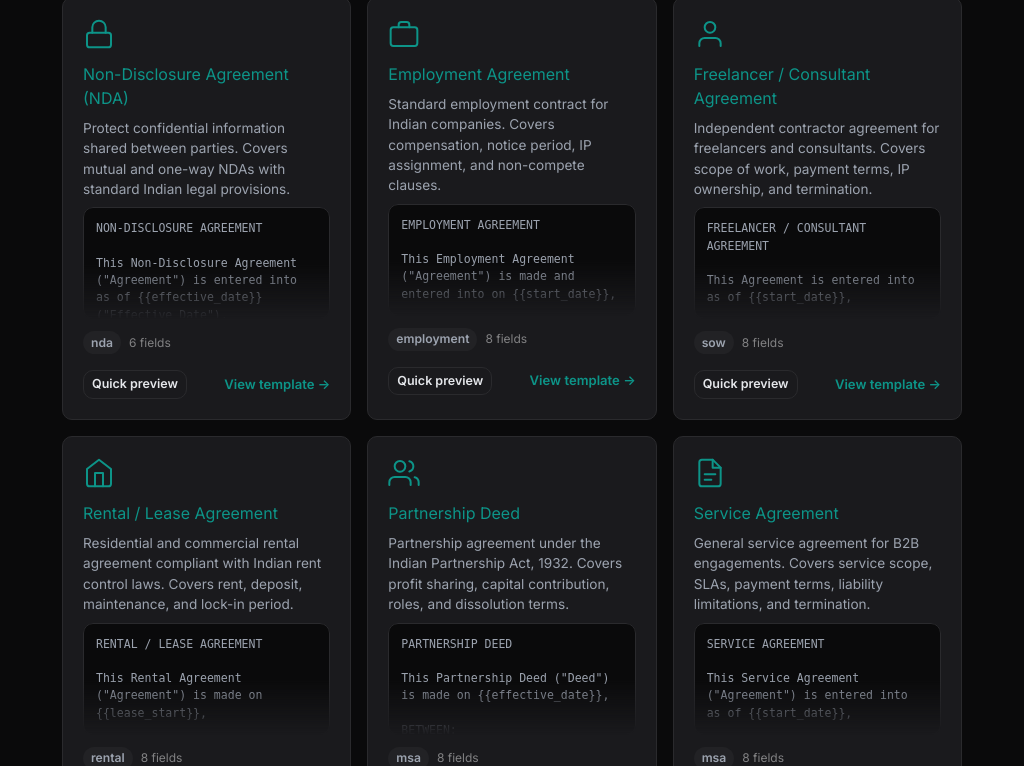
Scenario: FreeTemplatesPage › expands preview on quick preview click
(page scrolled)
Click the button "Quick preview" below "Non-Disclosure Agreement (NDA)": (135, 385) [83,370,187,399]
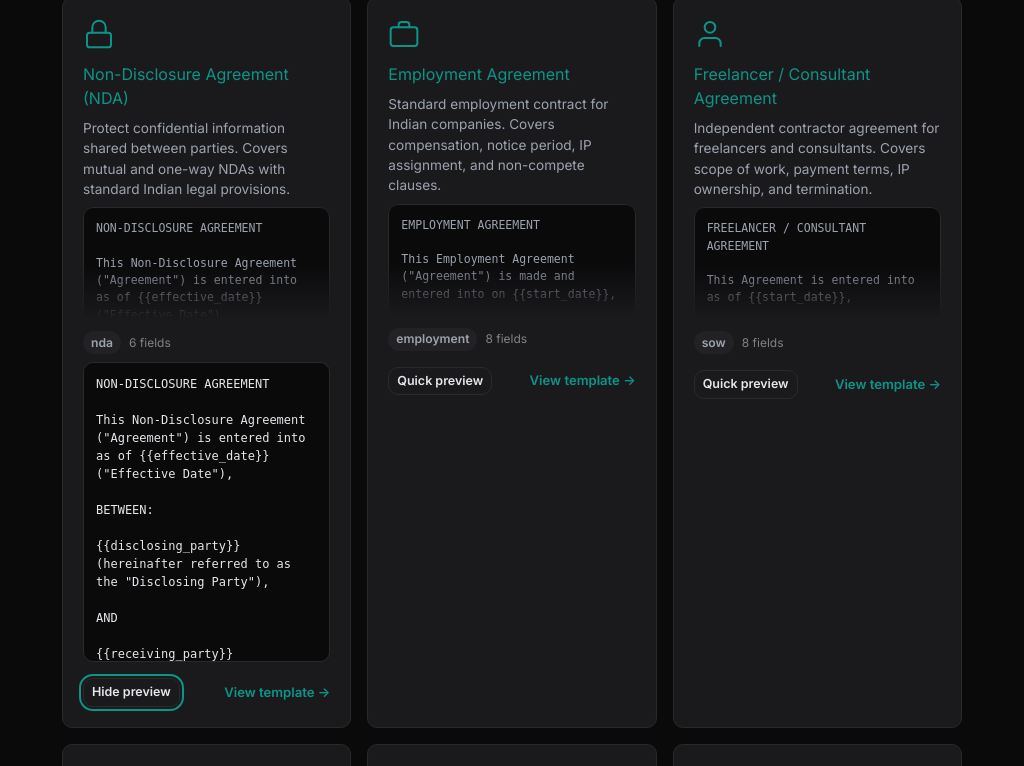
Result: the button "Hide preview" is shown at [83,678,180,707]
